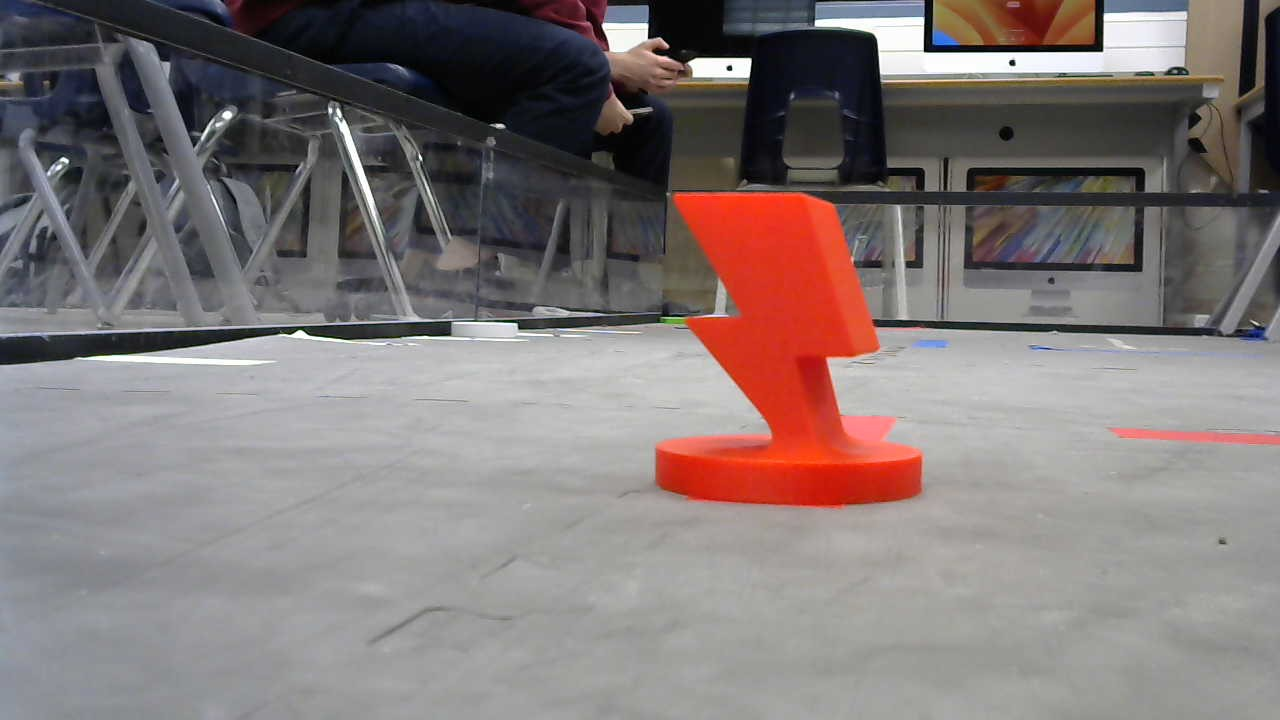redobject: (653, 192, 924, 509)
